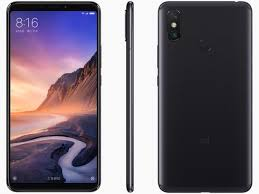mi: (3, 1, 106, 194)
